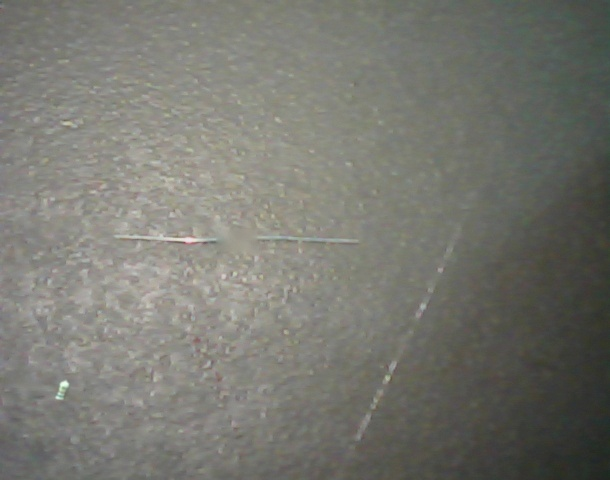resistor: (55, 380, 69, 400)
